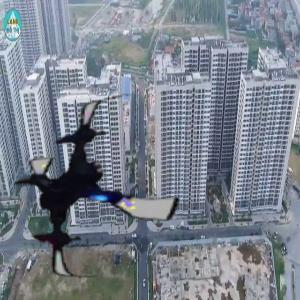drone: (3, 92, 196, 285)
